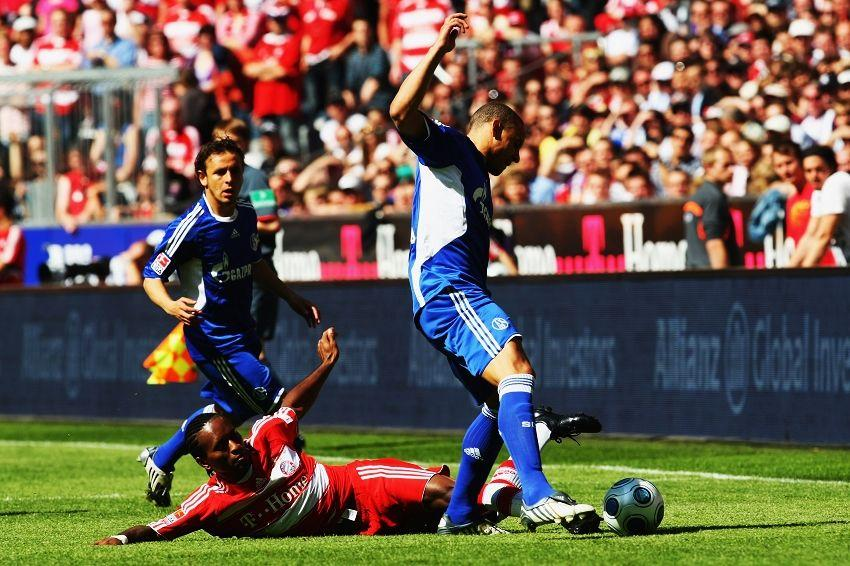bending: (132, 137, 323, 500)
down: (94, 322, 612, 552)
up: (389, 9, 599, 543)
